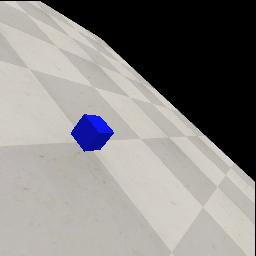box: (71, 114, 114, 152)
